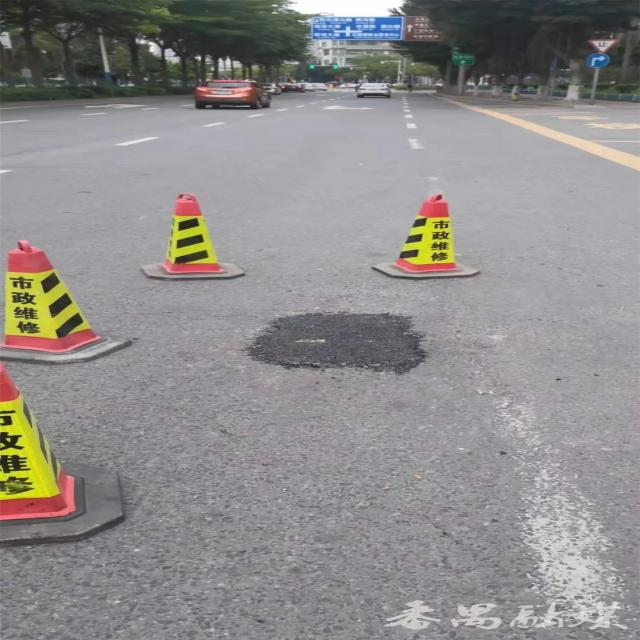Pothole: (228, 314, 434, 375)
